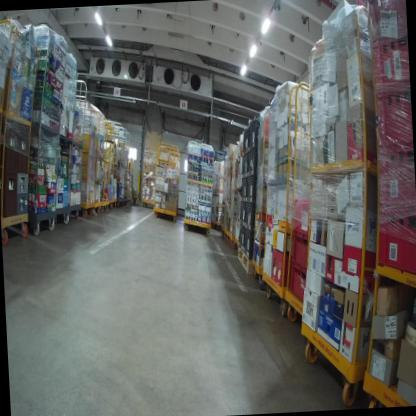small_load_carrier: (371, 191, 416, 279), (372, 148, 414, 220), (374, 83, 413, 160), (365, 26, 409, 90), (366, 0, 407, 45), (288, 258, 313, 307), (286, 226, 312, 271), (291, 196, 321, 232)
